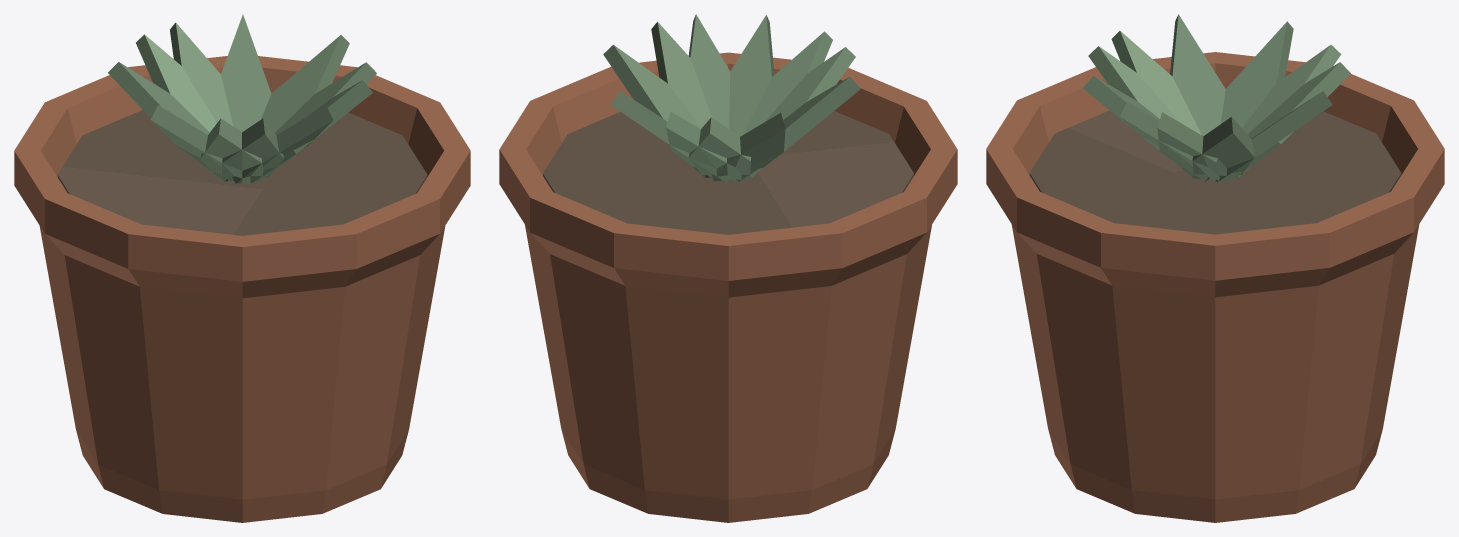
File: new-limifolia.glb
3 views of the same model, side by side, from view 1: azimuth 30°, elevation 25°; view 2: azimuth 150°, elevation 25°; view 3: azimuth 270°, elevation 25° (orthographic).
Parts seen in each view (by area): view 1: new-limifolia/review-terra-vessel, new-limifolia/review-rooted-soil, new-limifolia/leaf-007, new-limifolia/leaf-004, new-limifolia/leaf-010, new-limifolia/leaf-002, new-limifolia/leaf-005, new-limifolia/leaf-011, new-limifolia/leaf-008, new-limifolia/leaf-003, new-limifolia/leaf-006, new-limifolia/leaf-009 (+1 smaller); view 2: new-limifolia/review-terra-vessel, new-limifolia/review-rooted-soil, new-limifolia/leaf-006, new-limifolia/leaf-004, new-limifolia/leaf-009, new-limifolia/leaf-001, new-limifolia/leaf-011, new-limifolia/leaf-008, new-limifolia/leaf-003, new-limifolia/leaf-005, new-limifolia/leaf-010, new-limifolia/leaf-002 (+1 smaller); view 3: new-limifolia/review-terra-vessel, new-limifolia/review-rooted-soil, new-limifolia/leaf-008, new-limifolia/leaf-005, new-limifolia/leaf-003, new-limifolia/leaf-004, new-limifolia/leaf-011, new-limifolia/leaf-010, new-limifolia/leaf-002, new-limifolia/leaf-007, new-limifolia/leaf-009, new-limifolia/leaf-006 (+1 smaller).
Part boxes in pixels (x1=…): new-limifolia/review-terra-vessel: x1=14, y1=56, x2=470, y2=522; new-limifolia/review-rooted-soil: x1=57, y1=110, x2=427, y2=235; new-limifolia/leaf-007: x1=221, y1=14, x2=271, y2=132; new-limifolia/leaf-004: x1=261, y1=35, x2=349, y2=174; new-limifolia/leaf-010: x1=136, y1=34, x2=216, y2=131; new-limifolia/leaf-002: x1=170, y1=22, x2=233, y2=125; new-limifolia/leaf-005: x1=108, y1=62, x2=227, y2=181; new-limifolia/leaf-011: x1=221, y1=118, x2=283, y2=180; new-limifolia/leaf-008: x1=151, y1=105, x2=250, y2=183; new-limifolia/leaf-003: x1=200, y1=118, x2=263, y2=180; new-limifolia/leaf-006: x1=232, y1=105, x2=333, y2=183; new-limifolia/leaf-009: x1=256, y1=62, x2=376, y2=181; new-limifolia/review-terra-vessel: x1=499, y1=52, x2=957, y2=522; new-limifolia/review-rooted-soil: x1=543, y1=111, x2=913, y2=234; new-limifolia/leaf-006: x1=729, y1=15, x2=774, y2=136; new-limifolia/leaf-004: x1=603, y1=45, x2=709, y2=177; new-limifolia/leaf-009: x1=651, y1=22, x2=711, y2=127; new-limifolia/leaf-001: x1=688, y1=14, x2=730, y2=128; new-limifolia/leaf-011: x1=743, y1=31, x2=832, y2=134; new-limifolia/leaf-008: x1=736, y1=77, x2=860, y2=181; new-limifolia/leaf-003: x1=750, y1=47, x2=855, y2=177; new-limifolia/leaf-005: x1=711, y1=113, x2=785, y2=181; new-limifolia/leaf-010: x1=688, y1=117, x2=751, y2=179; new-limifolia/leaf-002: x1=666, y1=112, x2=742, y2=181; new-limifolia/review-terra-vessel: x1=986, y1=52, x2=1444, y2=522; new-limifolia/review-rooted-soil: x1=1029, y1=110, x2=1401, y2=234; new-limifolia/leaf-008: x1=1170, y1=14, x2=1225, y2=136; new-limifolia/leaf-005: x1=1221, y1=21, x2=1293, y2=127; new-limifolia/leaf-003: x1=1111, y1=31, x2=1201, y2=134; new-limifolia/leaf-004: x1=1192, y1=117, x2=1254, y2=179; new-limifolia/leaf-011: x1=1088, y1=46, x2=1193, y2=177; new-limifolia/leaf-010: x1=1237, y1=45, x2=1341, y2=177; new-limifolia/leaf-002: x1=1230, y1=62, x2=1350, y2=180; new-limifolia/leaf-007: x1=1215, y1=91, x2=1332, y2=182; new-limifolia/leaf-009: x1=1157, y1=112, x2=1231, y2=180; new-limifolia/leaf-006: x1=1083, y1=75, x2=1209, y2=181.
Size of the model in its own units: 0.19 by 0.1786 by 0.19.
3 materials, 3 textured.
